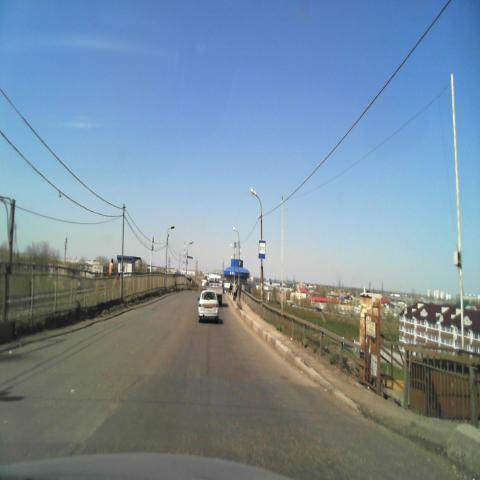7_12: (258, 240, 266, 258)
